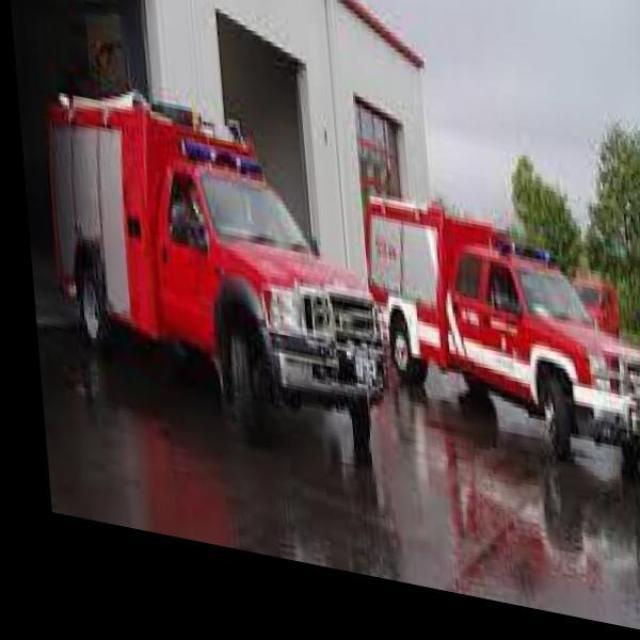emergency: (44, 86, 388, 448), (362, 192, 638, 464)
